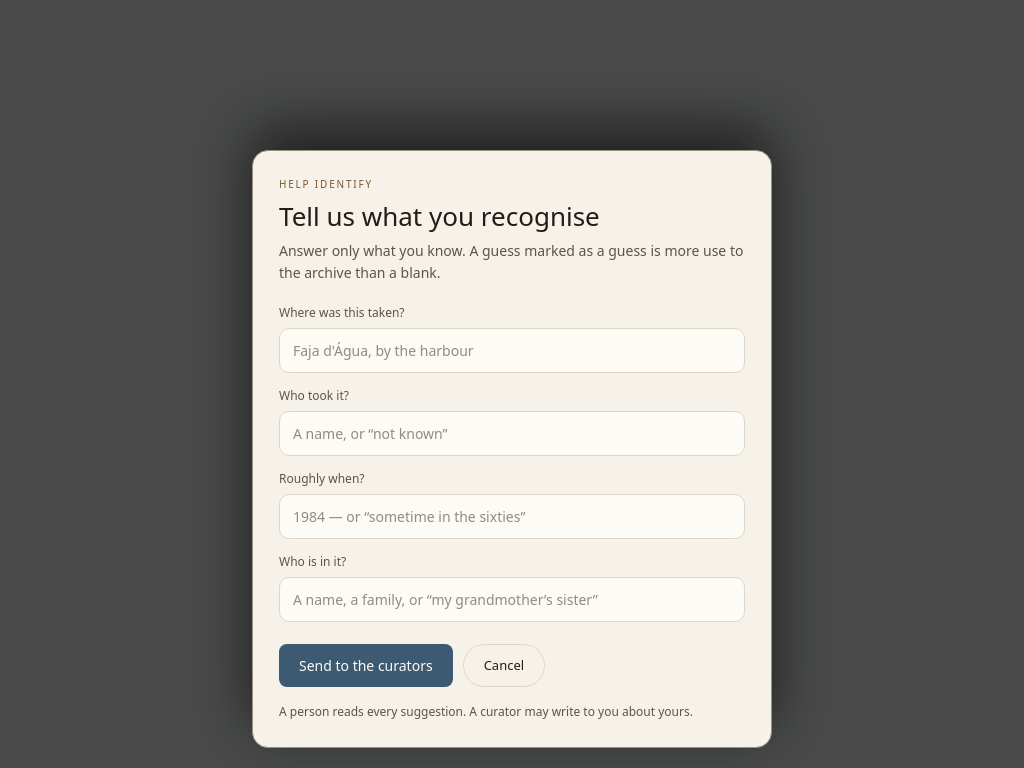
Test case: IdentifySheet › failure › reports the error and keeps what was typed
Type "Maria Tavares" into the field labelled "Who took it?" at (512, 433), box 279,410 -> 745,456
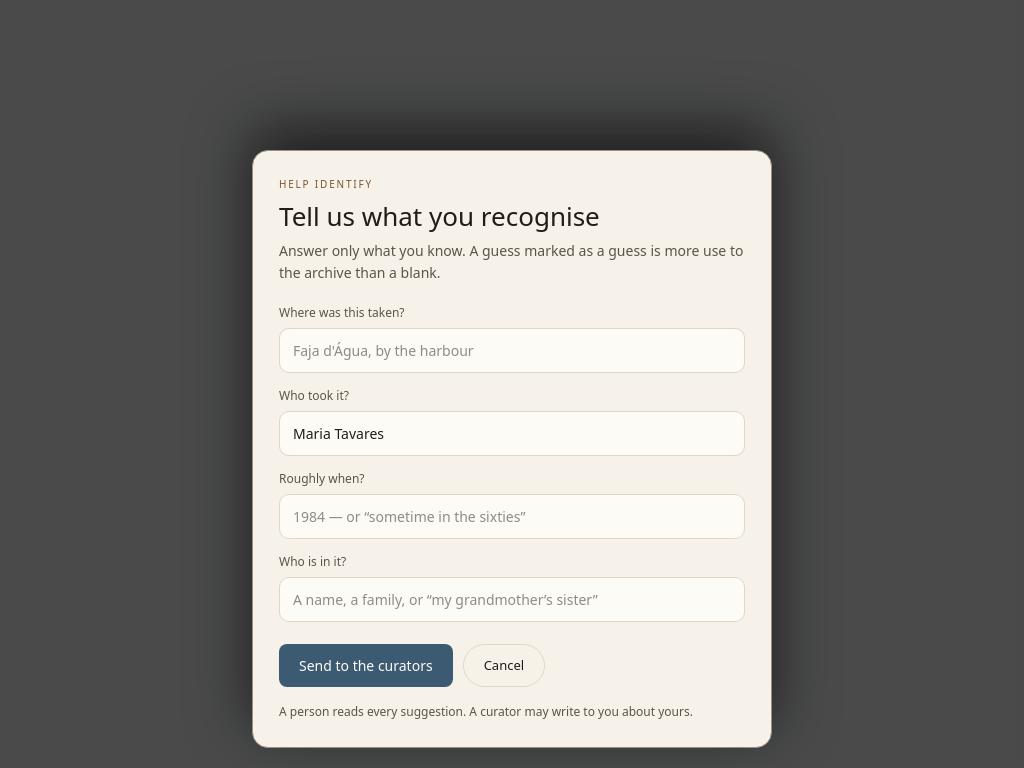
Click the button "Send to the curators" at (366, 665), box 279,644 -> 453,687
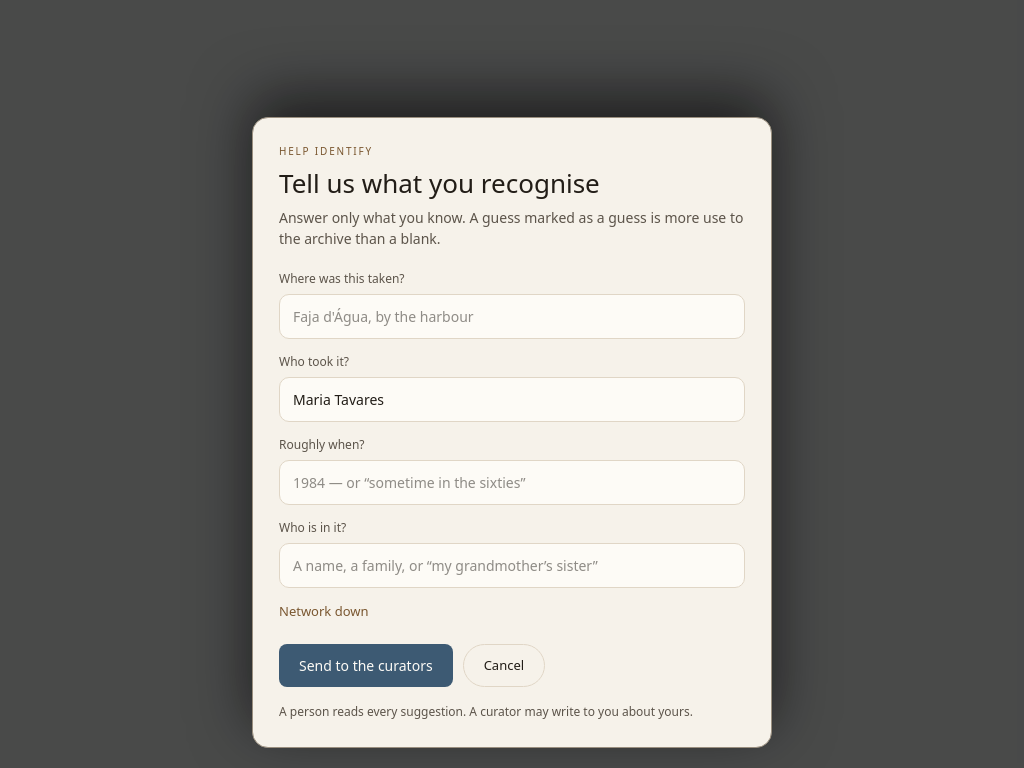
expect the text "Help identify" is shown: met, box 279,144 -> 373,158
expect the text "Network down" is shown: met, box 279,602 -> 368,620
